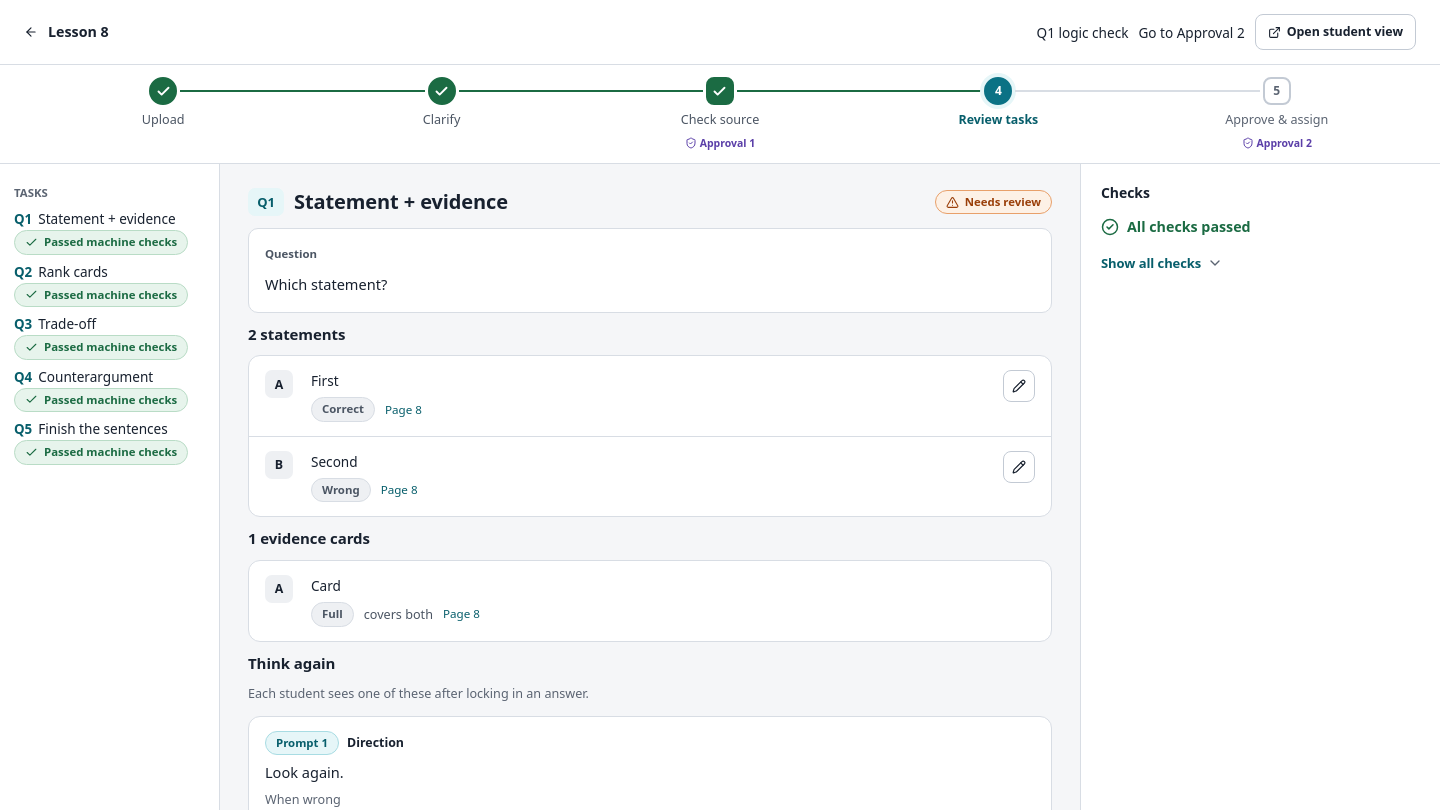
T7, T9 and T11 › a conflict says someone else saved first and offers to copy
Click the button named "Quick edit statement A".
click(1019, 386)  # box [1003,370,1035,402]
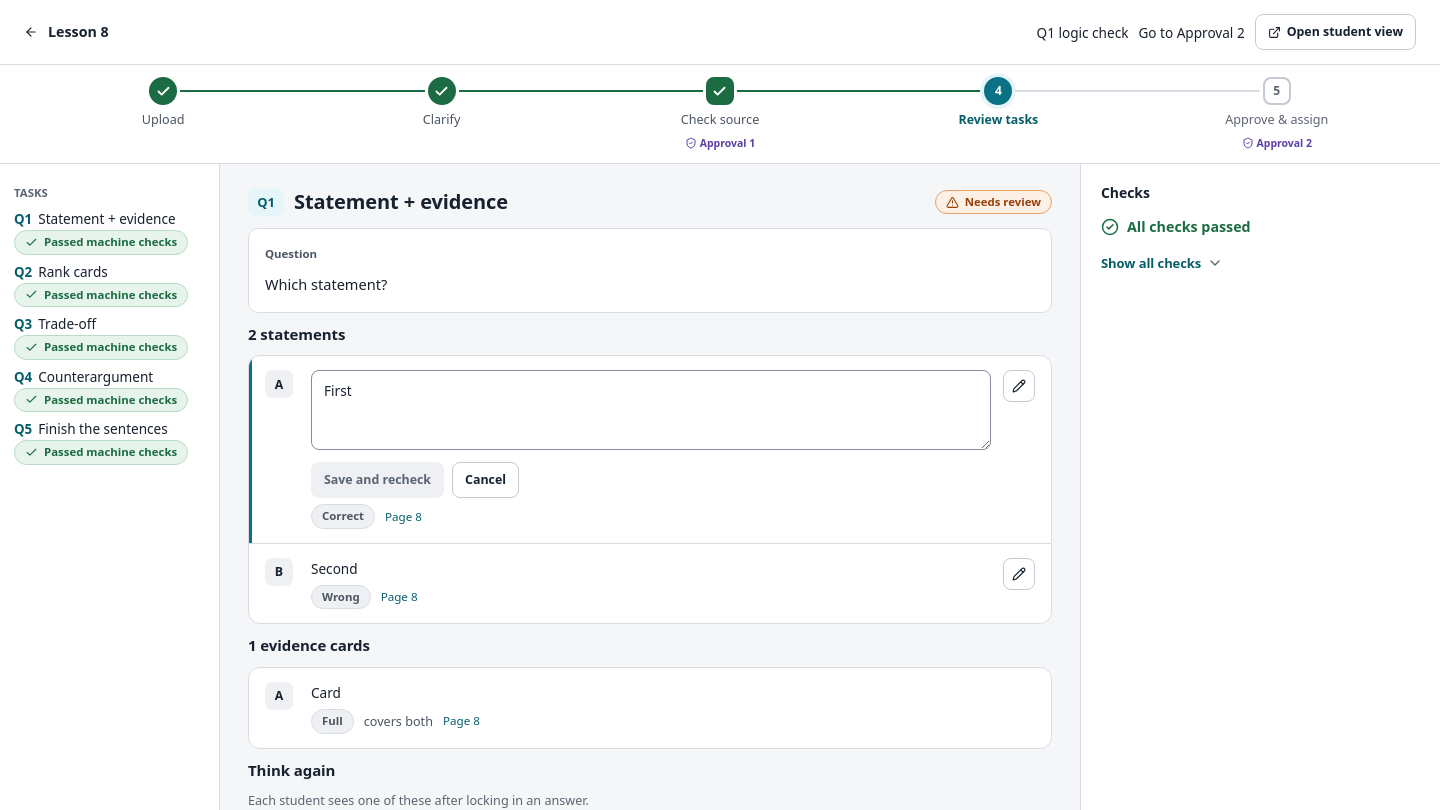
Replace the text in the text box named "Quick edit statement A" with "New" at (651,410), box [311,370,991,450]
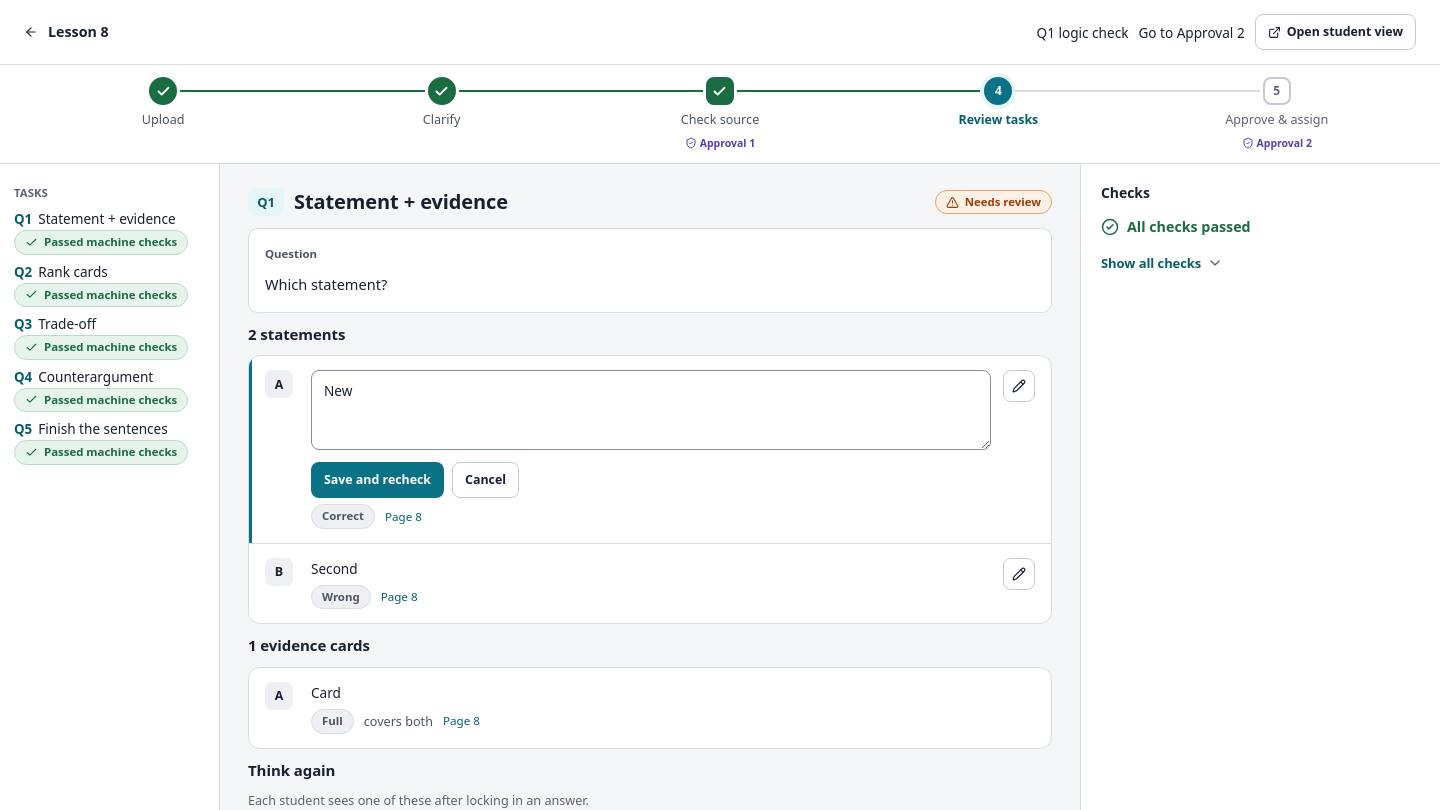
Click the button "Save and recheck".
click(378, 480)  # box [311,462,444,498]
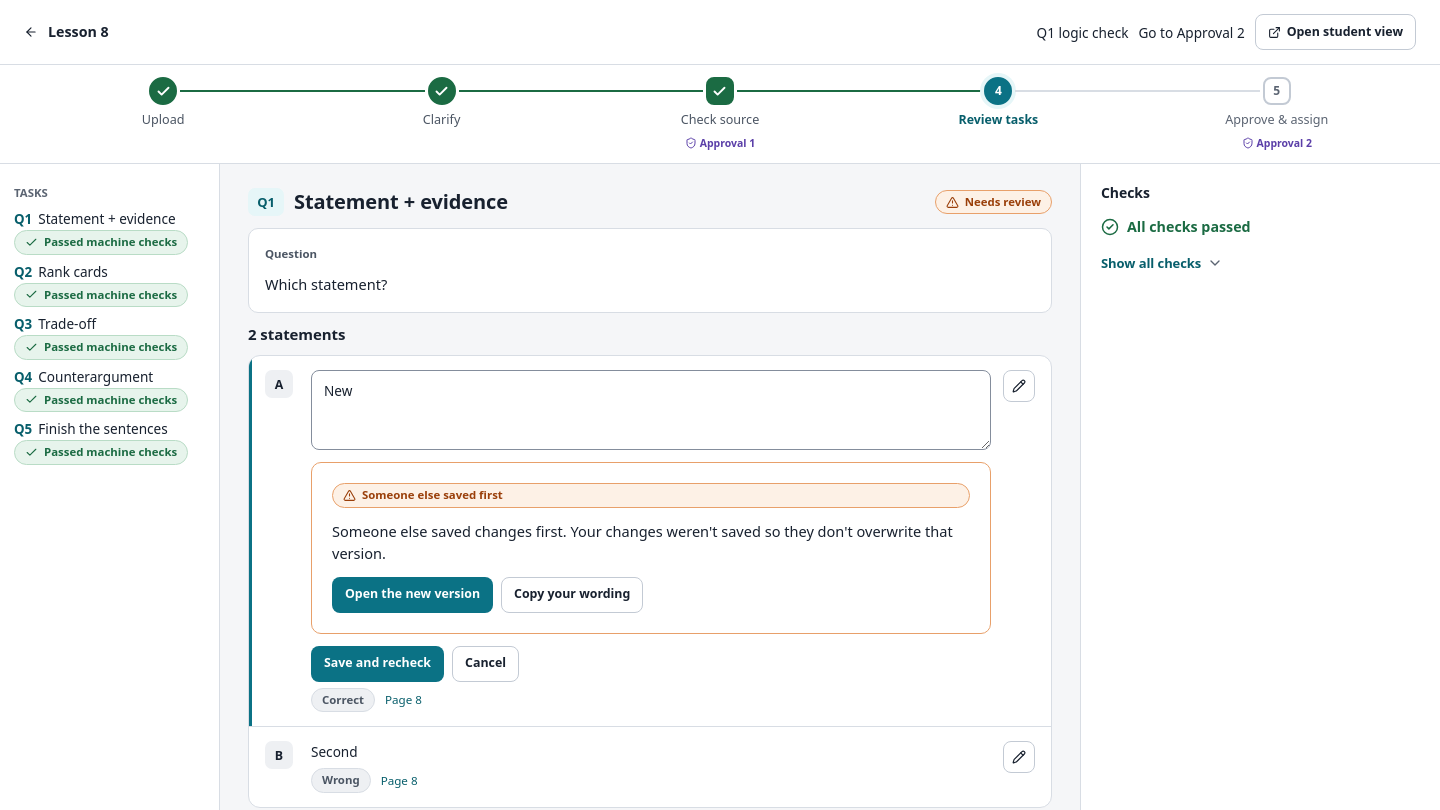
Expected: the text "Someone else saved first" is shown, [332,483,970,508]
Expected: the button "Copy your wording" is shown, [501,577,643,613]
